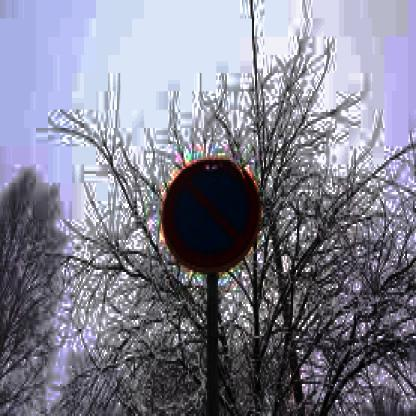No parking: (160, 158, 264, 272)
